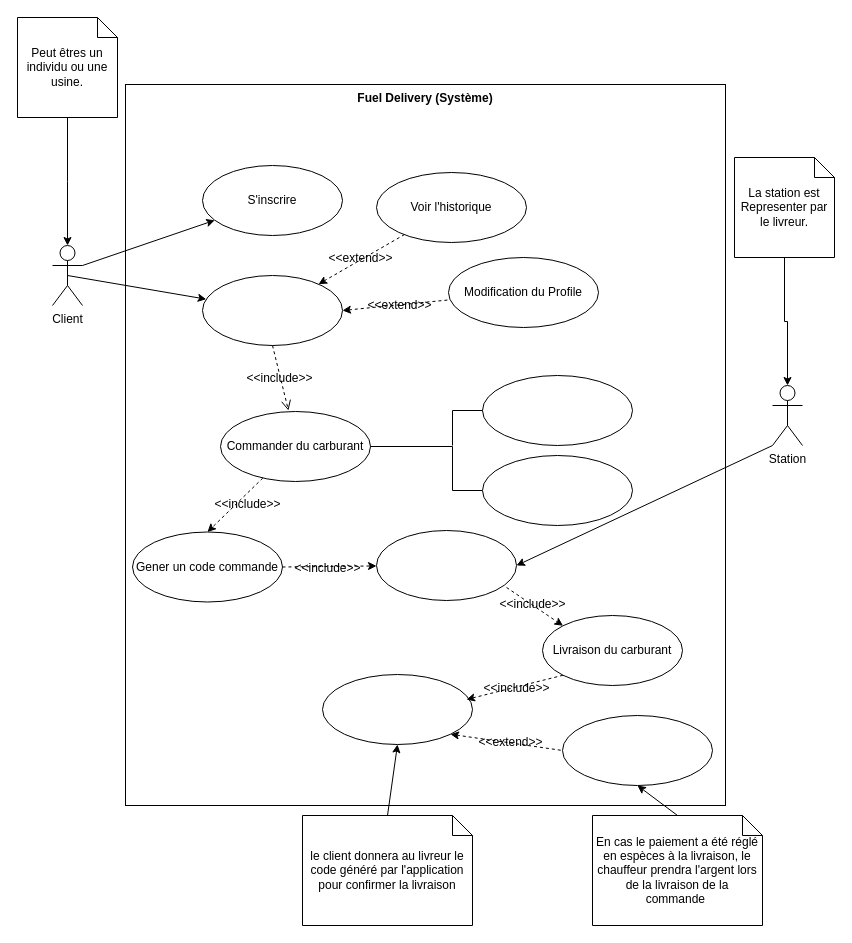
The diagram is 852 pixels wide and 943 high, and some of its shapes have lost their labels. Each missing label, with the box of its shape:
Acceptation du commande: (376, 530, 516, 600)
livraison contre remboursement: (562, 714, 712, 786)
Payment a livraison: (482, 454, 632, 526)
Payment Online: (482, 374, 632, 446)
Se connecter: (202, 274, 342, 346)
Verification du payment: (322, 674, 472, 744)
